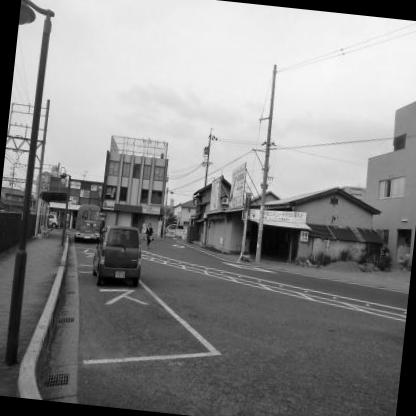bus: (77, 201, 108, 245)
car: (84, 220, 161, 301)
